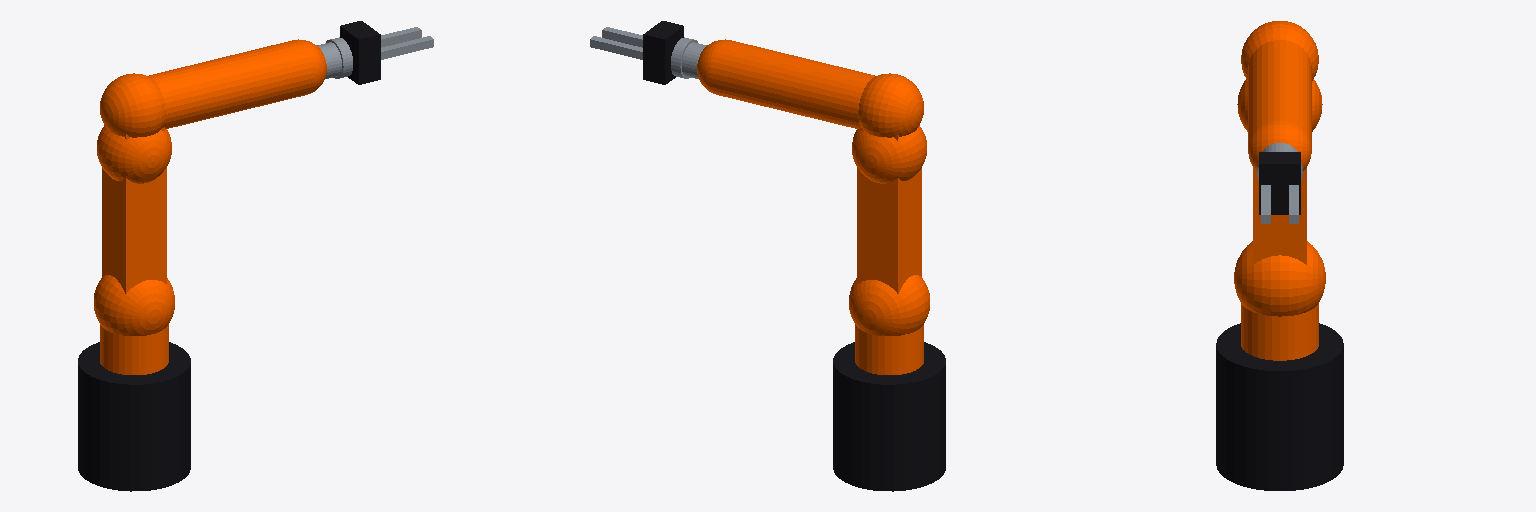
URDF robot description (irb120_hito1):
<?xml version="1.0"?>
<!--
  URDF expandido y ejecutable sin xacro. La fuente modular canonica son los
  archivos *.xacro del mismo directorio. Regenerar este archivo al modificarla.
-->
<robot name="irb120_hito1">
  <material name="abb_orange"><color rgba="1.0 0.42 0.0 1.0"/></material>
  <material name="abb_dark"><color rgba="0.12 0.12 0.14 1.0"/></material>
  <material name="metal"><color rgba="0.58 0.61 0.64 1.0"/></material>

  <link name="base_link">
    <visual>
      <origin xyz="0 0 0.0935" rpy="0 0 0"/>
      <geometry><cylinder radius="0.09" length="0.187"/></geometry>
      <material name="abb_dark"/>
    </visual>
    <collision>
      <origin xyz="0 0 0.0935" rpy="0 0 0"/>
      <geometry><cylinder radius="0.09" length="0.187"/></geometry>
    </collision>
  </link>

  <link name="joint_1_frame">
    <visual>
      <origin xyz="0 0 0.145" rpy="0 0 0"/>
      <geometry><cylinder radius="0.055" length="0.290"/></geometry>
      <material name="abb_orange"/>
    </visual>
  </link>
  <joint name="joint_1" type="revolute">
    <parent link="base_link"/><child link="joint_1_frame"/><axis xyz="0 0 1"/>
    <limit lower="-2.8797932658" upper="2.8797932658" effort="100" velocity="4.3633231300"/>
  </joint>
  <link name="theta_1_frame"/>
  <joint name="theta_offset_1" type="fixed">
    <parent link="joint_1_frame"/><child link="theta_1_frame"/>
  </joint>
  <link name="link_1">
    <inertial>
      <origin xyz="0 0.054 0" rpy="0 0 0"/><mass value="4.248"/>
      <inertia ixx="0.019699" ixy="0" ixz="0" iyy="0.014484" iyz="0" izz="0.019952"/>
    </inertial>
    <visual><geometry><sphere radius="0.065"/></geometry><material name="abb_orange"/></visual>
  </link>
  <joint name="dh_1" type="fixed">
    <parent link="theta_1_frame"/><child link="link_1"/>
    <origin xyz="0 0 0.290" rpy="-1.5707963267948966 0 0"/>
  </joint>

  <link name="joint_2_frame"/>
  <joint name="joint_2" type="revolute">
    <parent link="link_1"/><child link="joint_2_frame"/><axis xyz="0 0 1"/>
    <limit lower="-1.9198621772" upper="1.9198621772" effort="100" velocity="4.3633231300"/>
  </joint>
  <link name="theta_2_frame">
    <visual>
      <origin xyz="0.135 0 0" rpy="0 0 0"/><geometry><box size="0.270 0.075 0.075"/></geometry>
      <material name="abb_orange"/>
    </visual>
  </link>
  <joint name="theta_offset_2" type="fixed">
    <parent link="joint_2_frame"/><child link="theta_2_frame"/>
    <origin xyz="0 0 0" rpy="0 0 -1.5707963267948966"/>
  </joint>
  <link name="link_2">
    <inertial>
      <origin xyz="-0.169 0 0" rpy="0 0 0"/><mass value="5.412"/>
      <inertia ixx="0.035942" ixy="0" ixz="0" iyy="0.083522" iyz="0" izz="0.057569"/>
    </inertial>
    <visual><geometry><sphere radius="0.060"/></geometry><material name="abb_orange"/></visual>
  </link>
  <joint name="dh_2" type="fixed">
    <parent link="theta_2_frame"/><child link="link_2"/><origin xyz="0.270 0 0" rpy="0 0 0"/>
  </joint>

  <link name="joint_3_frame"/>
  <joint name="joint_3" type="revolute">
    <parent link="link_2"/><child link="joint_3_frame"/><axis xyz="0 0 1"/>
    <limit lower="-1.9198621772" upper="1.2217304764" effort="100" velocity="4.3633231300"/>
  </joint>
  <link name="theta_3_frame">
    <visual>
      <origin xyz="0.035 0 0" rpy="0 0 0"/><geometry><box size="0.070 0.070 0.070"/></geometry>
      <material name="abb_orange"/>
    </visual>
  </link>
  <joint name="theta_offset_3" type="fixed">
    <parent link="joint_3_frame"/><child link="theta_3_frame"/>
  </joint>
  <link name="link_3">
    <inertial>
      <origin xyz="-0.012 0 0.023" rpy="0 0 0"/><mass value="4.077"/>
      <inertia ixx="0.017562" ixy="0" ixz="-0.001993" iyy="0.023140" iyz="0" izz="0.011589"/>
    </inertial>
    <visual><geometry><sphere radius="0.055"/></geometry><material name="abb_orange"/></visual>
  </link>
  <joint name="dh_3" type="fixed">
    <parent link="theta_3_frame"/><child link="link_3"/>
    <origin xyz="0.070 0 0" rpy="-1.5707963267948966 0 0"/>
  </joint>

  <link name="joint_4_frame"/>
  <joint name="joint_4" type="revolute">
    <parent link="link_3"/><child link="joint_4_frame"/><axis xyz="0 0 1"/>
    <limit lower="-2.7925268032" upper="2.7925268032" effort="100" velocity="5.5850536064"/>
  </joint>
  <link name="theta_4_frame">
    <visual>
      <origin xyz="0 0 0.151" rpy="0 0 0"/><geometry><cylinder radius="0.045" length="0.302"/></geometry>
      <material name="abb_orange"/>
    </visual>
  </link>
  <joint name="theta_offset_4" type="fixed">
    <parent link="joint_4_frame"/><child link="theta_4_frame"/>
  </joint>
  <link name="link_4">
    <inertial>
      <origin xyz="0 -0.007 0" rpy="0 0 0"/><mass value="1.832"/>
      <inertia ixx="0.007247" ixy="0" ixz="0" iyy="0.003919" iyz="0" izz="0.005551"/>
    </inertial>
    <visual><geometry><sphere radius="0.045"/></geometry><material name="abb_orange"/></visual>
  </link>
  <joint name="dh_4" type="fixed">
    <parent link="theta_4_frame"/><child link="link_4"/>
    <origin xyz="0 0 0.302" rpy="1.5707963267948966 0 0"/>
  </joint>

  <link name="joint_5_frame"/>
  <joint name="joint_5" type="revolute">
    <parent link="link_4"/><child link="joint_5_frame"/><axis xyz="0 0 1"/>
    <limit lower="-2.0943951024" upper="2.0943951024" effort="100" velocity="5.5850536064"/>
  </joint>
  <link name="theta_5_frame"/>
  <joint name="theta_offset_5" type="fixed">
    <parent link="joint_5_frame"/><child link="theta_5_frame"/>
  </joint>
  <link name="link_5">
    <inertial>
      <origin xyz="0 0 0" rpy="0 0 0"/><mass value="0.755"/>
      <inertia ixx="0.001120" ixy="0" ixz="0" iyy="0.001227" iyz="0" izz="0.000559"/>
    </inertial>
    <visual><geometry><sphere radius="0.035"/></geometry><material name="abb_orange"/></visual>
  </link>
  <joint name="dh_5" type="fixed">
    <parent link="theta_5_frame"/><child link="link_5"/>
    <origin xyz="0 0 0" rpy="-1.5707963267948966 0 0"/>
  </joint>

  <link name="joint_6_frame"/>
  <joint name="joint_6" type="revolute">
    <parent link="link_5"/><child link="joint_6_frame"/><axis xyz="0 0 1"/>
    <limit lower="-6.9813170080" upper="6.9813170080" effort="100" velocity="7.3303828584"/>
  </joint>
  <link name="theta_6_frame">
    <visual>
      <origin xyz="0 0 0.036" rpy="0 0 0"/><geometry><cylinder radius="0.028" length="0.072"/></geometry>
      <material name="metal"/>
    </visual>
  </link>
  <joint name="theta_offset_6" type="fixed">
    <parent link="joint_6_frame"/><child link="theta_6_frame"/>
    <origin xyz="0 0 0" rpy="0 0 3.141592653589793"/>
  </joint>
  <link name="link_6">
    <inertial>
      <origin xyz="0 0 -0.007" rpy="0 0 0"/><mass value="0.019"/>
      <inertia ixx="0.000002347" ixy="0" ixz="0" iyy="0.000002347" iyz="0" izz="0.000004123"/>
    </inertial>
    <visual><geometry><cylinder radius="0.032" length="0.018"/></geometry><material name="metal"/></visual>
  </link>
  <joint name="dh_6" type="fixed">
    <parent link="theta_6_frame"/><child link="link_6"/><origin xyz="0 0 0.072" rpy="0 0 0"/>
  </joint>
  <link name="tool0"/>
  <joint name="tool0_fixed" type="fixed"><parent link="link_6"/><child link="tool0"/></joint>

  <link name="gripper_base_link">
    <visual>
      <origin xyz="0 0 0.020" rpy="0 0 0"/><geometry><box size="0.080 0.060 0.040"/></geometry>
      <material name="abb_dark"/>
    </visual>
    <collision>
      <origin xyz="0 0 0.020" rpy="0 0 0"/><geometry><box size="0.080 0.060 0.040"/></geometry>
    </collision>
  </link>
  <joint name="gripper_mount" type="fixed">
    <parent link="tool0"/><child link="gripper_base_link"/><origin xyz="0 0 0.020" rpy="0 0 0"/>
  </joint>
  <link name="left_finger_link">
    <visual>
      <origin xyz="0 0 0.050" rpy="0 0 0"/><geometry><box size="0.014 0.014 0.100"/></geometry>
      <material name="metal"/>
    </visual>
  </link>
  <joint name="gripper_left_joint" type="prismatic">
    <parent link="gripper_base_link"/><child link="left_finger_link"/>
    <origin xyz="0 0.020 0.040" rpy="0 0 0"/><axis xyz="0 1 0"/>
    <limit lower="0.0" upper="0.015" effort="20" velocity="0.10"/>
  </joint>
  <link name="right_finger_link">
    <visual>
      <origin xyz="0 0 0.050" rpy="0 0 0"/><geometry><box size="0.014 0.014 0.100"/></geometry>
      <material name="metal"/>
    </visual>
  </link>
  <joint name="gripper_right_joint" type="prismatic">
    <parent link="gripper_base_link"/><child link="right_finger_link"/>
    <origin xyz="0 -0.020 0.040" rpy="0 0 0"/><axis xyz="0 -1 0"/>
    <limit lower="0.0" upper="0.015" effort="20" velocity="0.10"/>
  </joint>
  <link name="tcp_link"/>
  <joint name="tcp_fixed" type="fixed">
    <parent link="gripper_base_link"/><child link="tcp_link"/><origin xyz="0 0 0.140" rpy="0 0 0"/>
  </joint>
</robot>

--- Render facts (derived) ---
3 views of the same robot in one strip: view 1: azimuth 30°, elevation 25°; view 2: azimuth 150°, elevation 25°; view 3: azimuth 270°, elevation 25° (orthographic).
Robot: irb120_hito1 — 24 links, 23 joints (6 revolute, 2 prismatic, 15 fixed); root link base_link; default pose: all joints at 0.
Visible links, largest first — view 1: base_link, theta_4_frame, theta_2_frame, link_1, link_3, link_2, joint_1_frame, gripper_base_link, link_4, right_finger_link, theta_6_frame; view 2: base_link, theta_4_frame, theta_2_frame, link_1, link_3, link_2, joint_1_frame, gripper_base_link, link_4, left_finger_link, theta_6_frame; view 3: base_link, theta_4_frame, link_1, joint_1_frame, theta_2_frame, gripper_base_link, link_3, link_4, link_2.
Link boxes in pixels (x1,y1,x2,y2): base_link: (78, 342, 190, 491); theta_4_frame: (149, 40, 312, 128); theta_2_frame: (102, 167, 166, 293); link_1: (94, 275, 174, 335); link_3: (100, 73, 165, 137); link_2: (97, 125, 171, 183); joint_1_frame: (100, 324, 168, 374); gripper_base_link: (340, 21, 380, 84); link_4: (296, 39, 326, 93); right_finger_link: (381, 36, 433, 59); theta_6_frame: (317, 42, 341, 78); base_link: (833, 342, 945, 491); theta_4_frame: (711, 40, 874, 128); theta_2_frame: (857, 167, 921, 293); link_1: (849, 275, 929, 335); link_3: (858, 73, 923, 137); link_2: (852, 125, 926, 183); joint_1_frame: (855, 324, 923, 374); gripper_base_link: (643, 21, 683, 84); link_4: (697, 39, 727, 93); left_finger_link: (590, 36, 642, 59); theta_6_frame: (682, 42, 706, 78); base_link: (1216, 323, 1343, 490); theta_4_frame: (1248, 40, 1311, 145); link_1: (1234, 241, 1325, 316); joint_1_frame: (1241, 303, 1318, 360); theta_2_frame: (1253, 168, 1306, 264); gripper_base_link: (1259, 152, 1300, 214); link_3: (1241, 21, 1318, 80); link_4: (1248, 121, 1311, 170); link_2: (1237, 79, 1322, 131).
Bounding box of the posed robot: 0.624 × 0.18 × 0.685 m (x, y, z).
Geometry: primitives only (box / cylinder / sphere), no mesh files.
